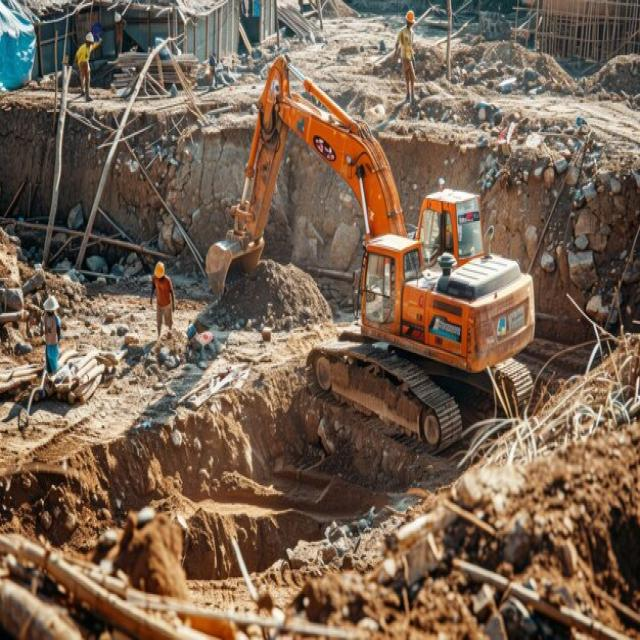Site Excavation: (18, 73, 312, 624)
